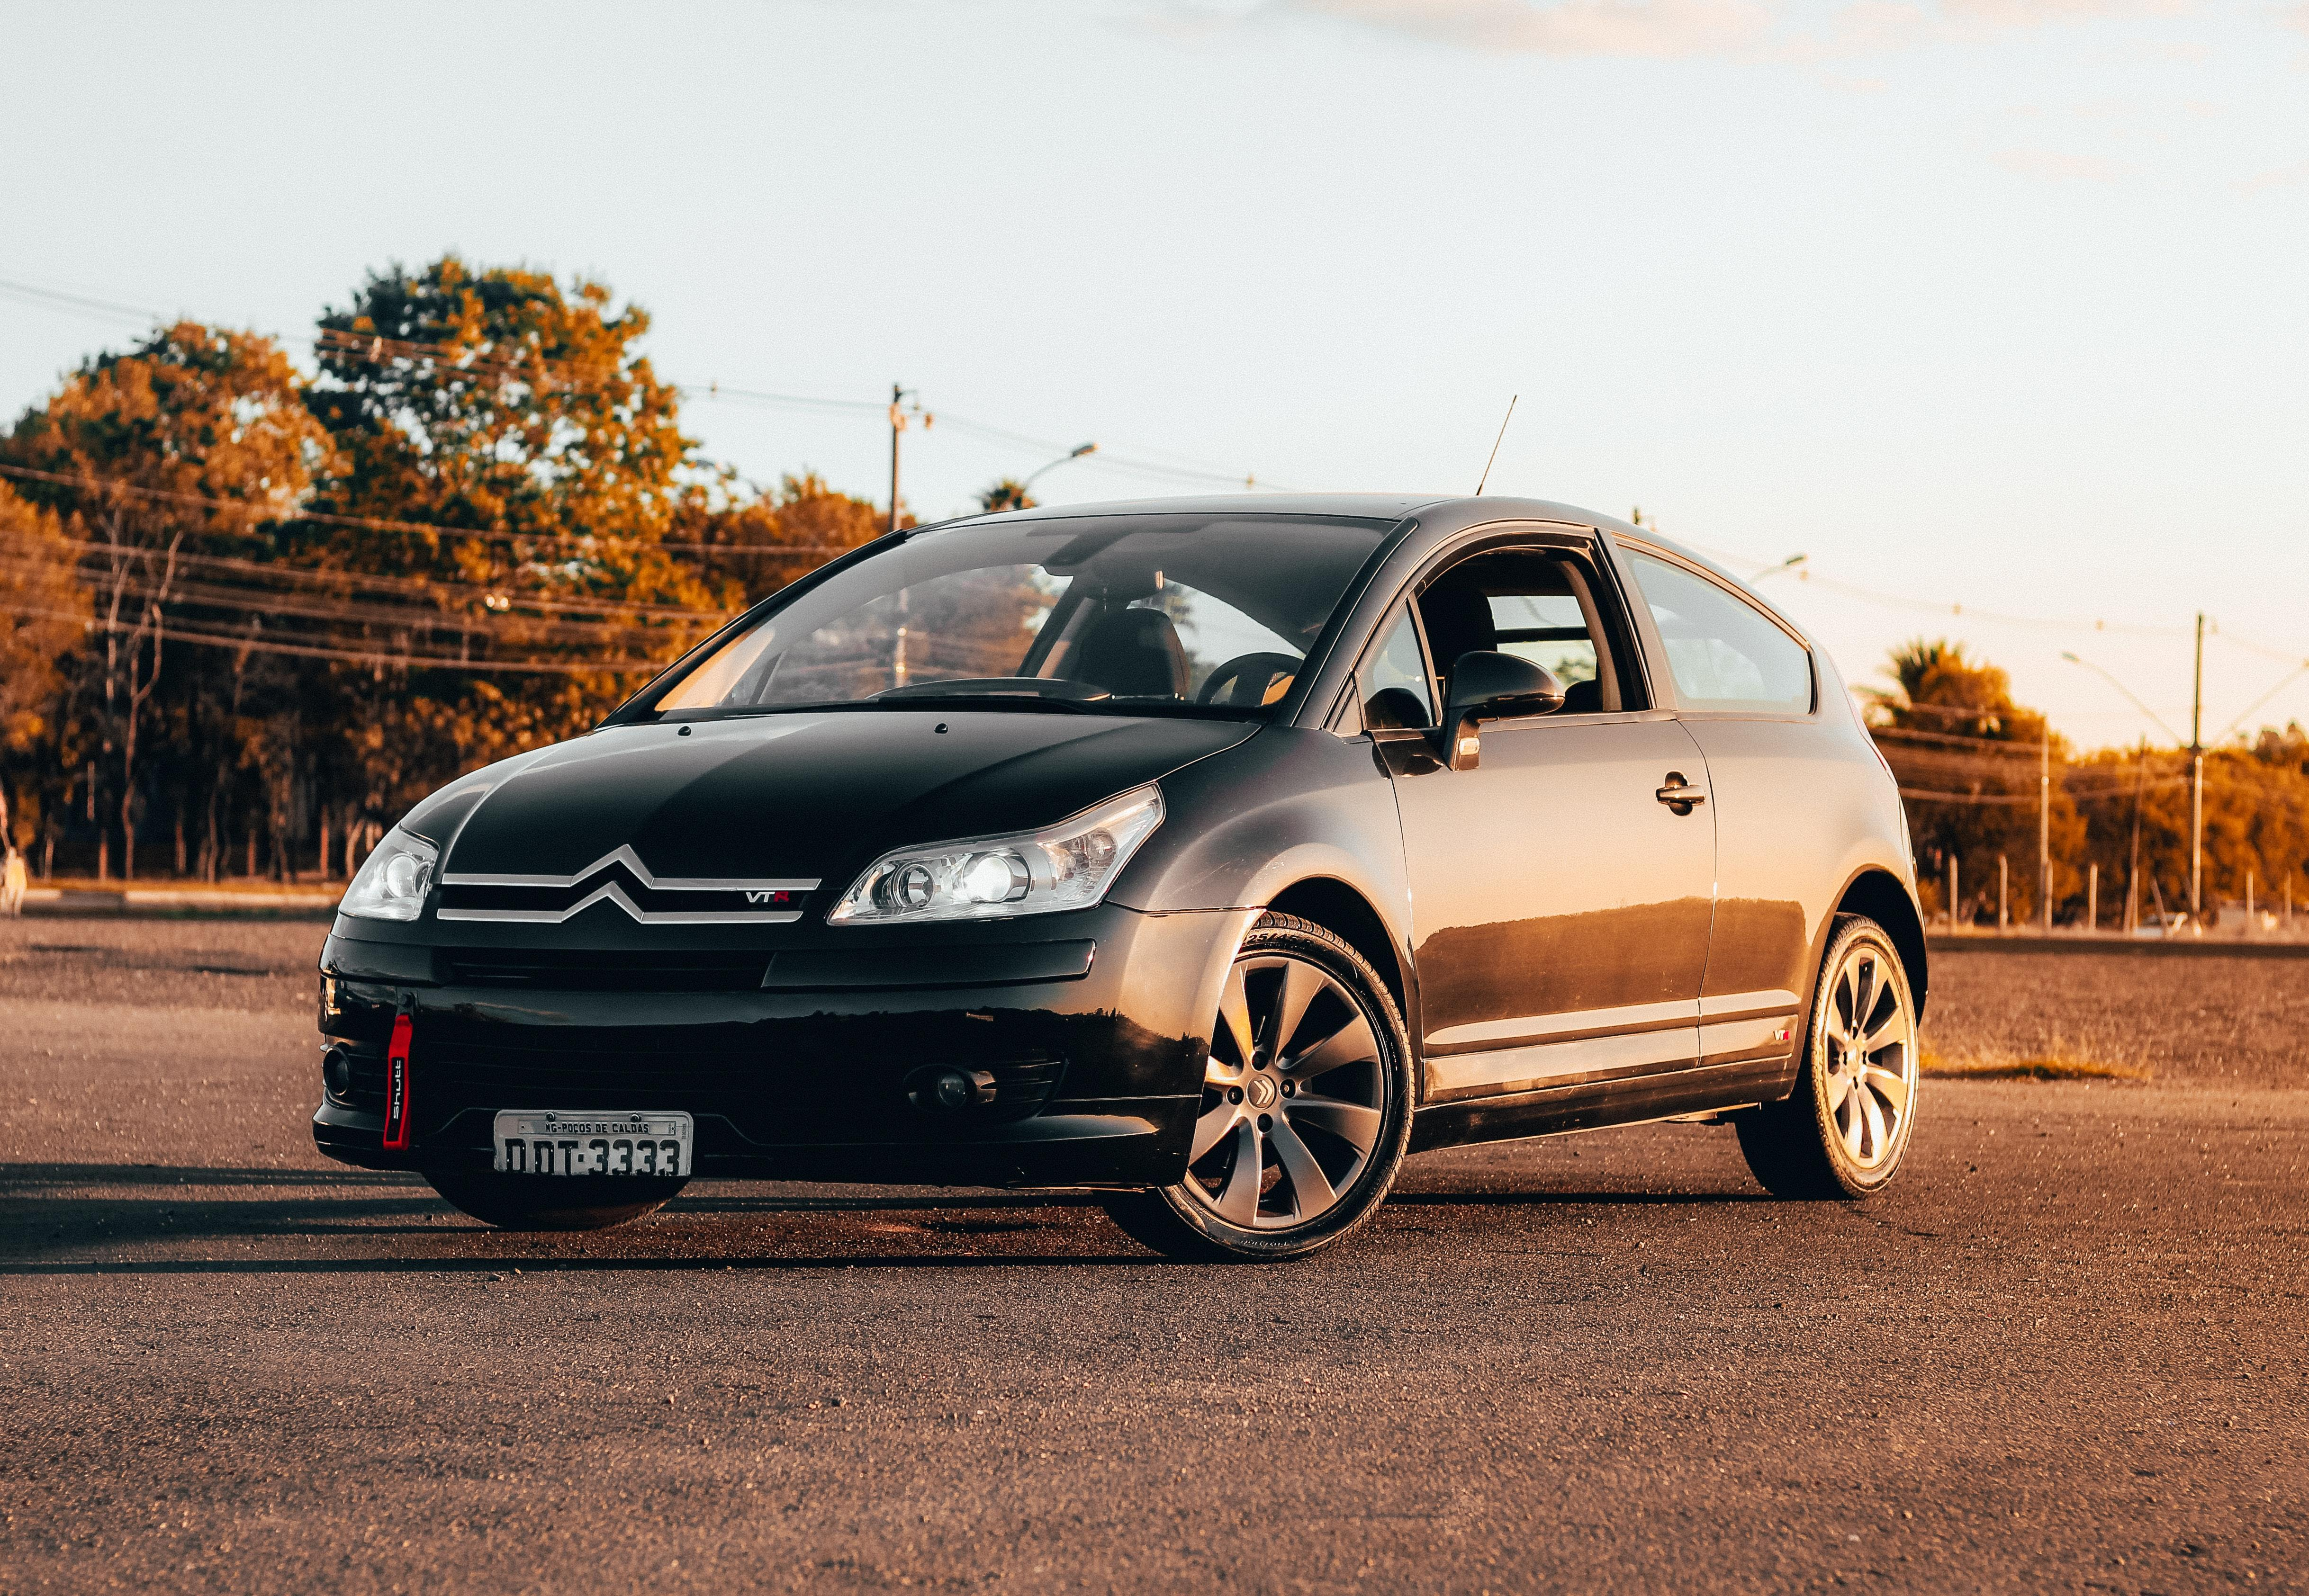Citroen: (550, 818, 682, 958)
